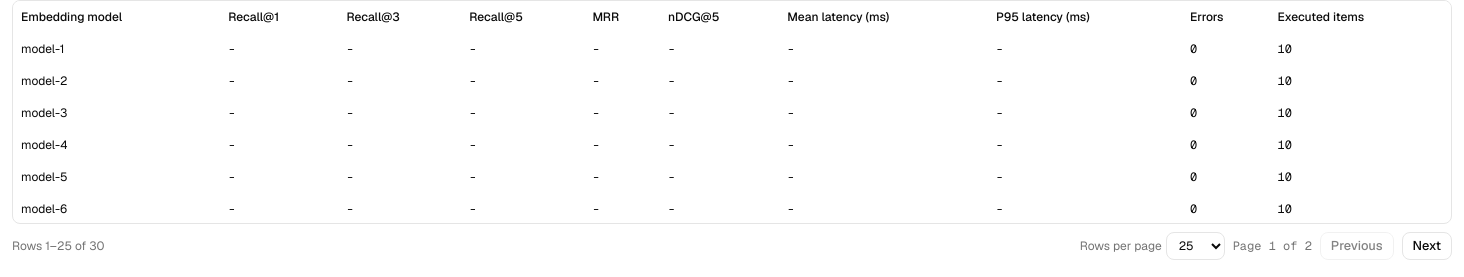
EmbeddingComparisonTable › paginates large comparison tables so later rows remain accessible
This screenshot has width=1464, height=277.
Check: the text "model-1" is shown, box x1=21 y1=41 x2=64 y2=57
Check: the text "model-30" is not shown
Click the button with test id "lab-embedding-comparison-pagination-next".
click(1427, 246)  # box x1=1402 y1=232 x2=1452 y2=260
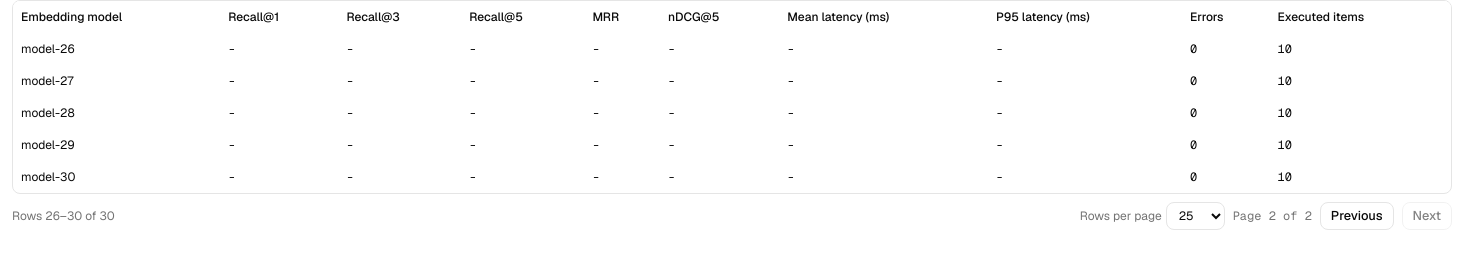
Check: the text "model-30" is shown, box x1=21 y1=169 x2=75 y2=185
